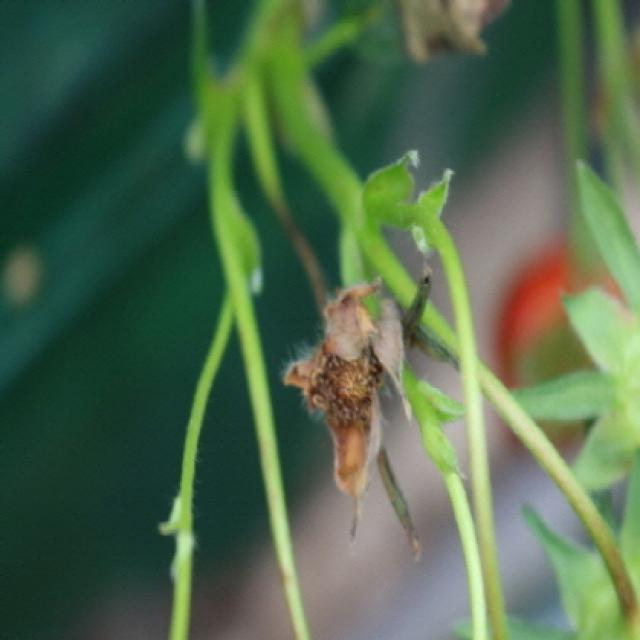Gray Mold: (279, 274, 411, 544)
